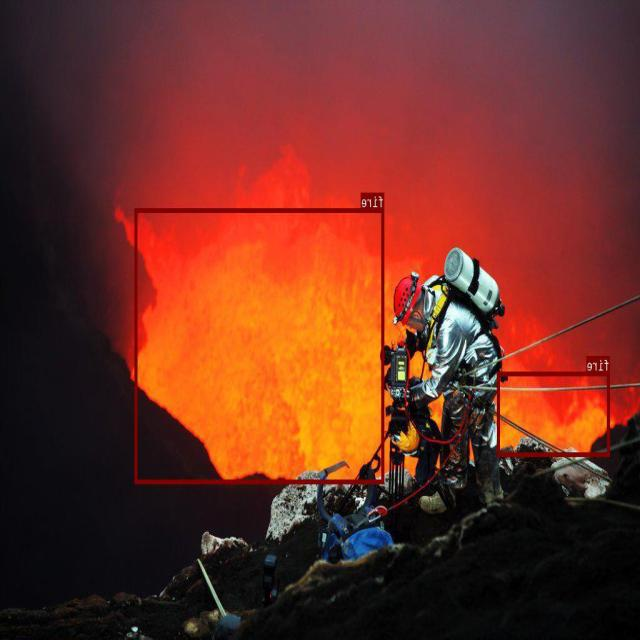fire: (135, 208, 385, 482), (498, 371, 610, 456)
